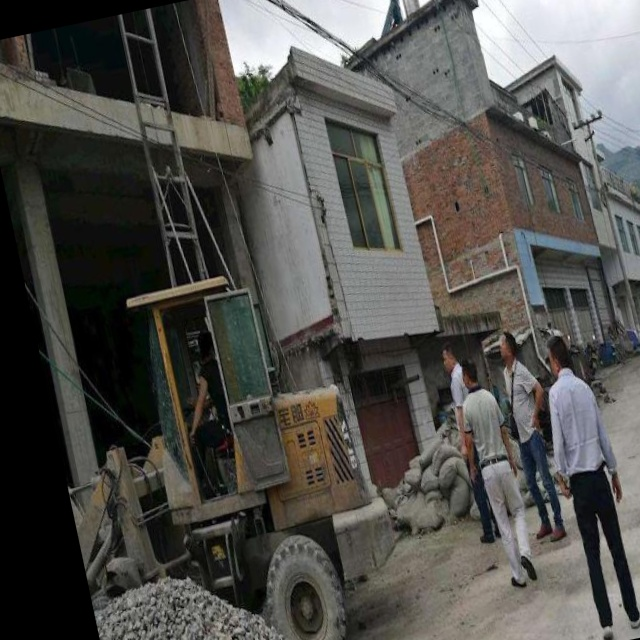Sin_Chaleco: (541, 362, 614, 482), (457, 385, 513, 476)
